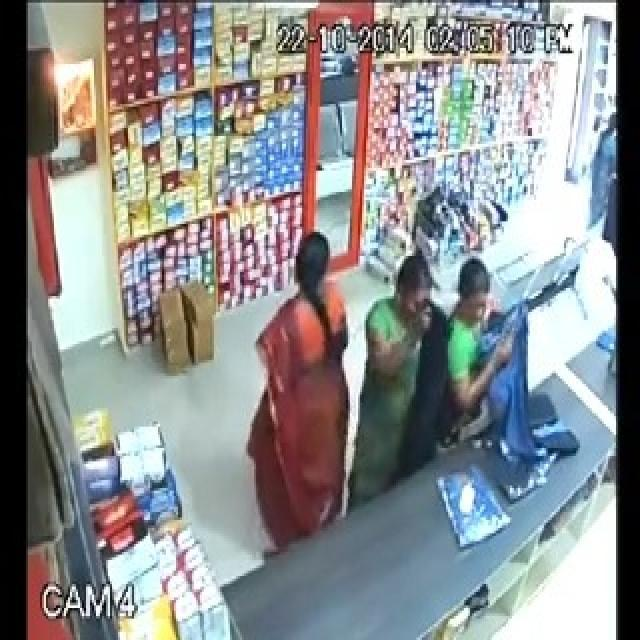Normal: (241, 219, 357, 580), (448, 249, 598, 496), (350, 243, 463, 498)
